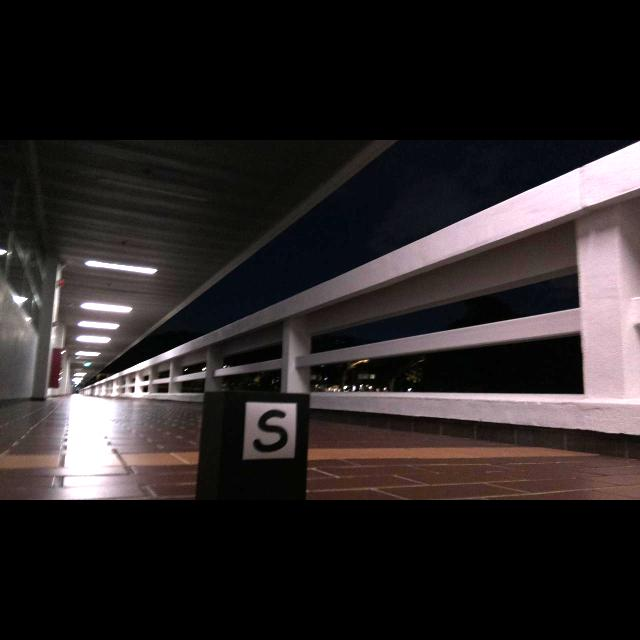S: (254, 410, 289, 453)
